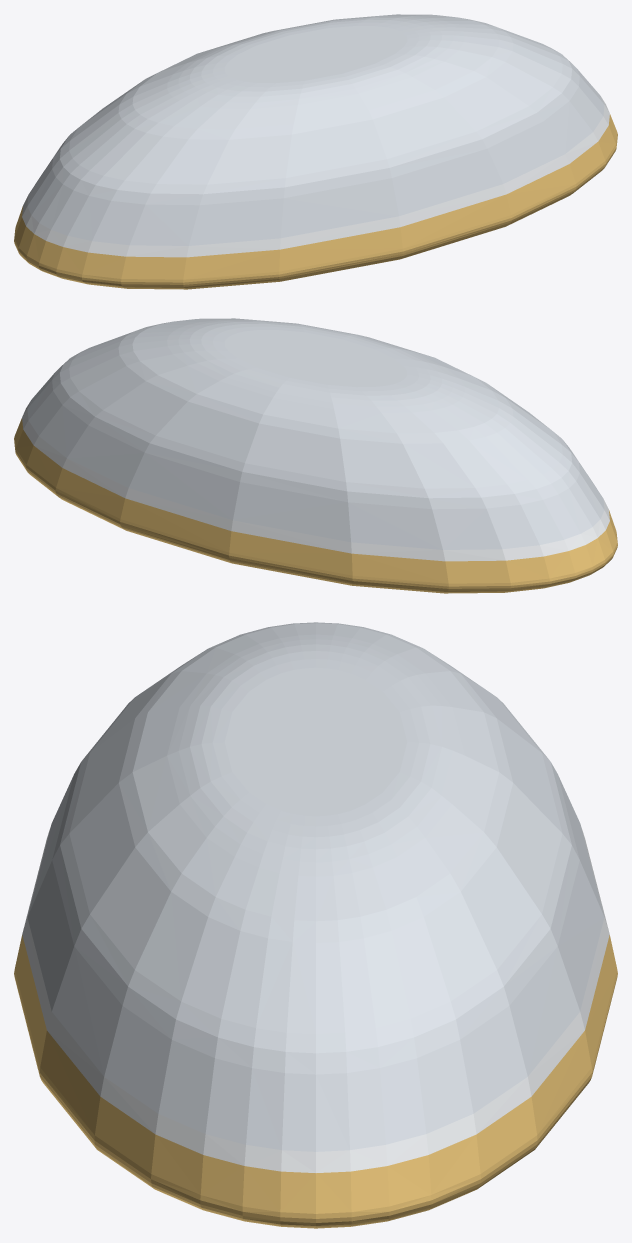
File: Mantle.obj
The picture shows the model from 3 angles, top to bottom: view 1: azimuth 30°, elevation 25°; view 2: azimuth 150°, elevation 25°; view 3: azimuth 270°, elevation 25°; orthographic projection. The views are drawn at different scales.
Size of the model in its own units: 3.1 by 0.735 by 1.61.
